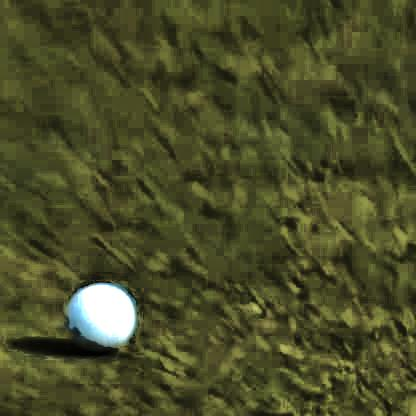golfball: (64, 278, 134, 349)
